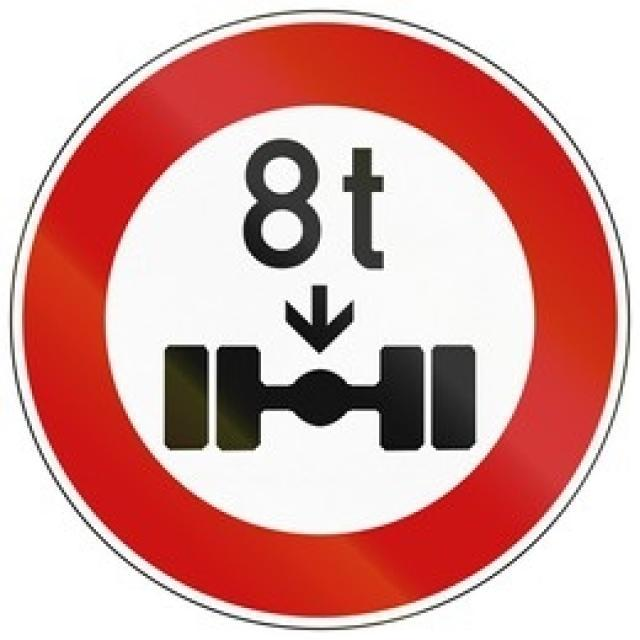axle load limit: (26, 20, 616, 615)
